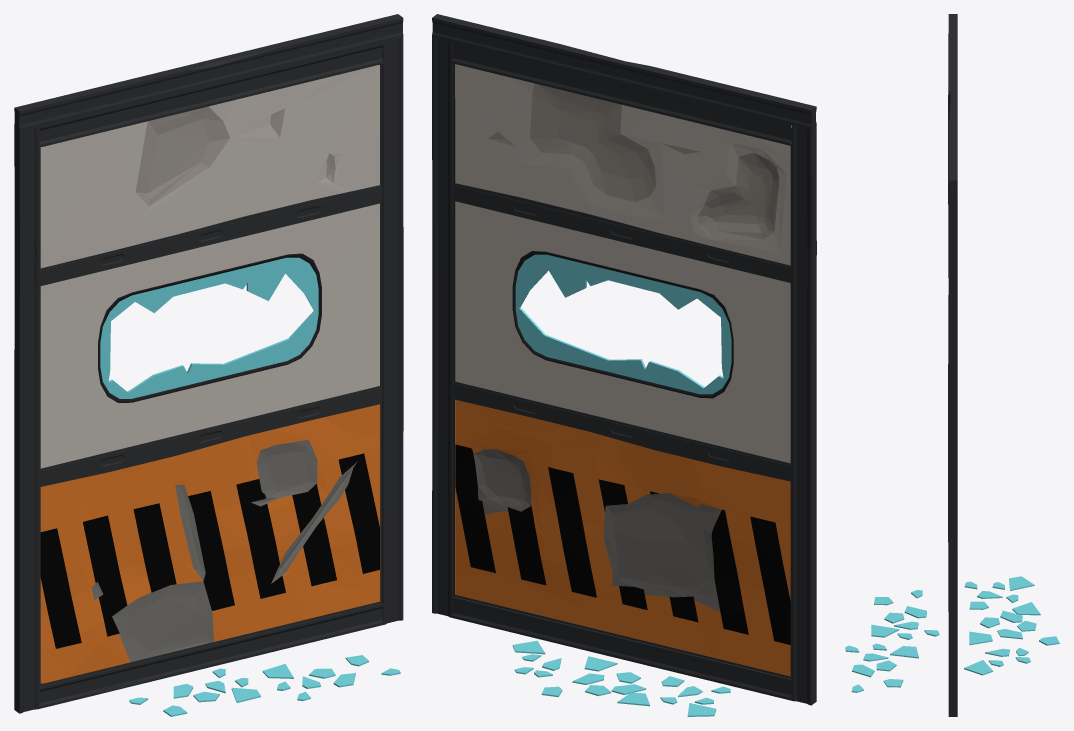
Rendered from SM_Wall_Broken_01.gltf.
3 renders of one model, left to right at view 1: azimuth 30°, elevation 25°; view 2: azimuth 150°, elevation 25°; view 3: azimuth 270°, elevation 25°, orthographic. The views are drawn at different scales.
Parts seen in each view (by area): view 1: SM_Wall_Broken_01; view 2: SM_Wall_Broken_01; view 3: SM_Wall_Broken_01.
Part boxes in pixels (x1,y1,x2,y2): SM_Wall_Broken_01: (14, 14, 403, 716); SM_Wall_Broken_01: (432, 14, 816, 716); SM_Wall_Broken_01: (845, 14, 1059, 716).
Size of the model in its own units: 2 by 3 by 1.09.
